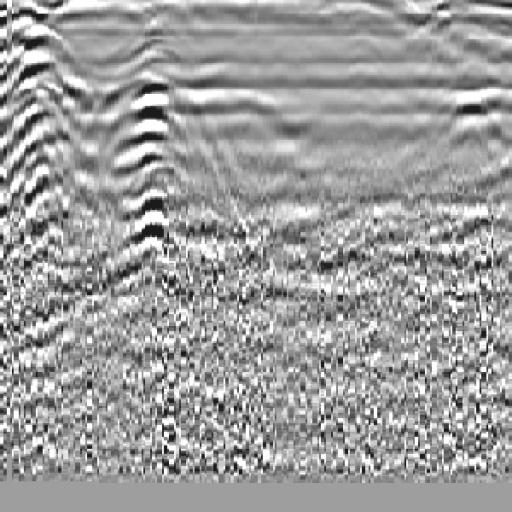metalic: (75, 50, 230, 314)
